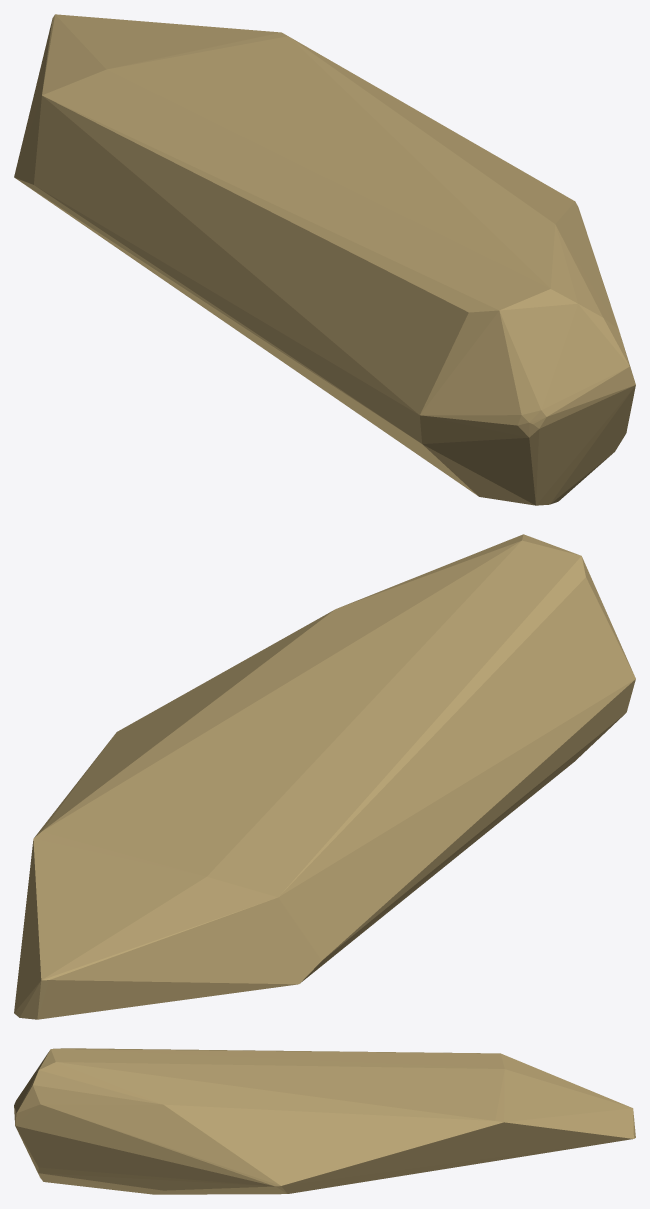
File: paint_supplies_spraygun_a01.glb
3 renders of one model, top to bottom at view 1: azimuth 30°, elevation 25°; view 2: azimuth 150°, elevation 25°; view 3: azimuth 270°, elevation 25°, orthographic. The views are drawn at different scales.
Parts seen in each view (by area): view 1: geometry_0; view 2: geometry_0; view 3: geometry_0.
Boxes of the visible parts, x1,y1,x2,y2 form: geometry_0: [14, 14, 635, 505]; geometry_0: [14, 534, 635, 1019]; geometry_0: [14, 1048, 635, 1194].
Size of the model in its own units: 0.1961 by 0.1025 by 0.4788.
